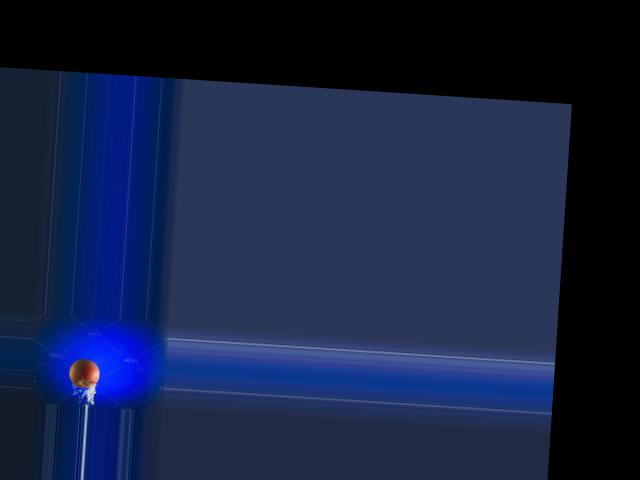tomato: (67, 358, 100, 388)
